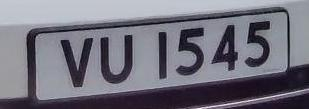1: (148, 23, 178, 85)
4: (207, 18, 245, 78)
5: (173, 20, 210, 80), (240, 17, 275, 71)
U: (95, 28, 139, 90)
V: (52, 32, 97, 93)
